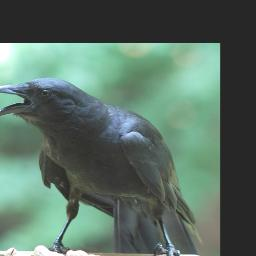Crow: (0, 77, 203, 256)
